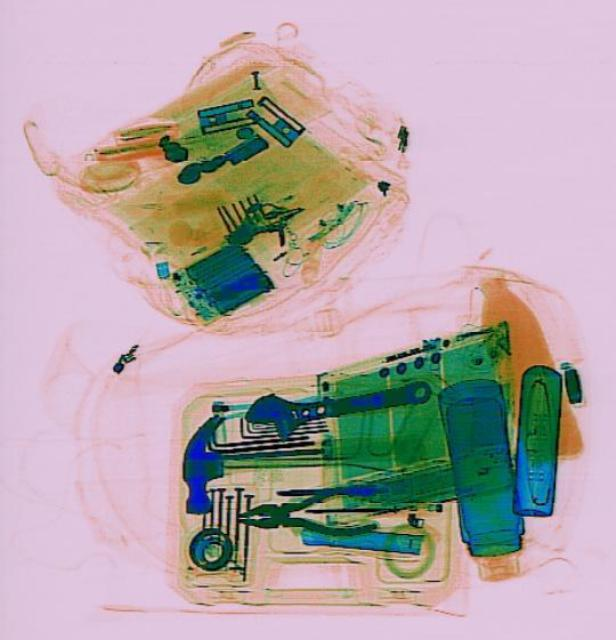Pliers: (233, 482, 375, 542)
Wrench: (238, 362, 434, 446)
